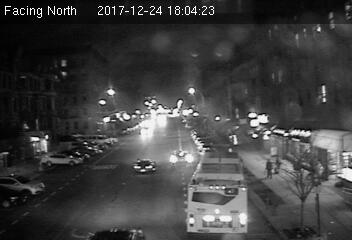bus: (184, 152, 250, 236)
car: (169, 151, 196, 170), (134, 159, 156, 174)
